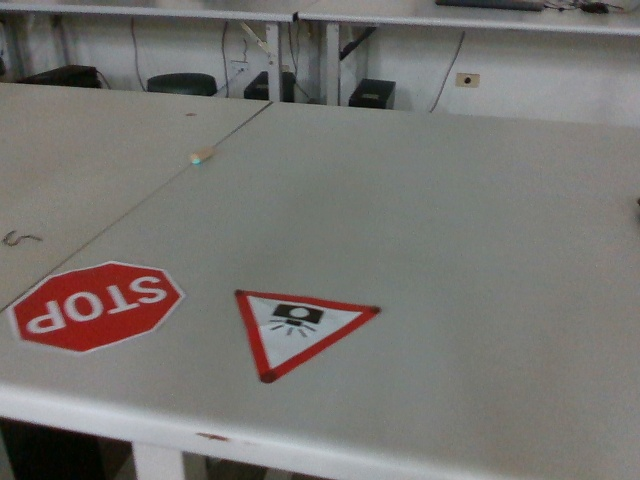camera: (232, 286, 383, 387)
stop: (8, 260, 187, 357)
